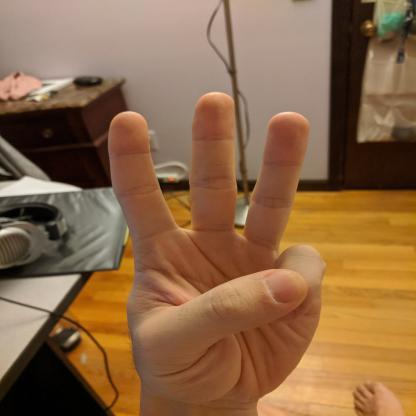W: (101, 90, 330, 410)
